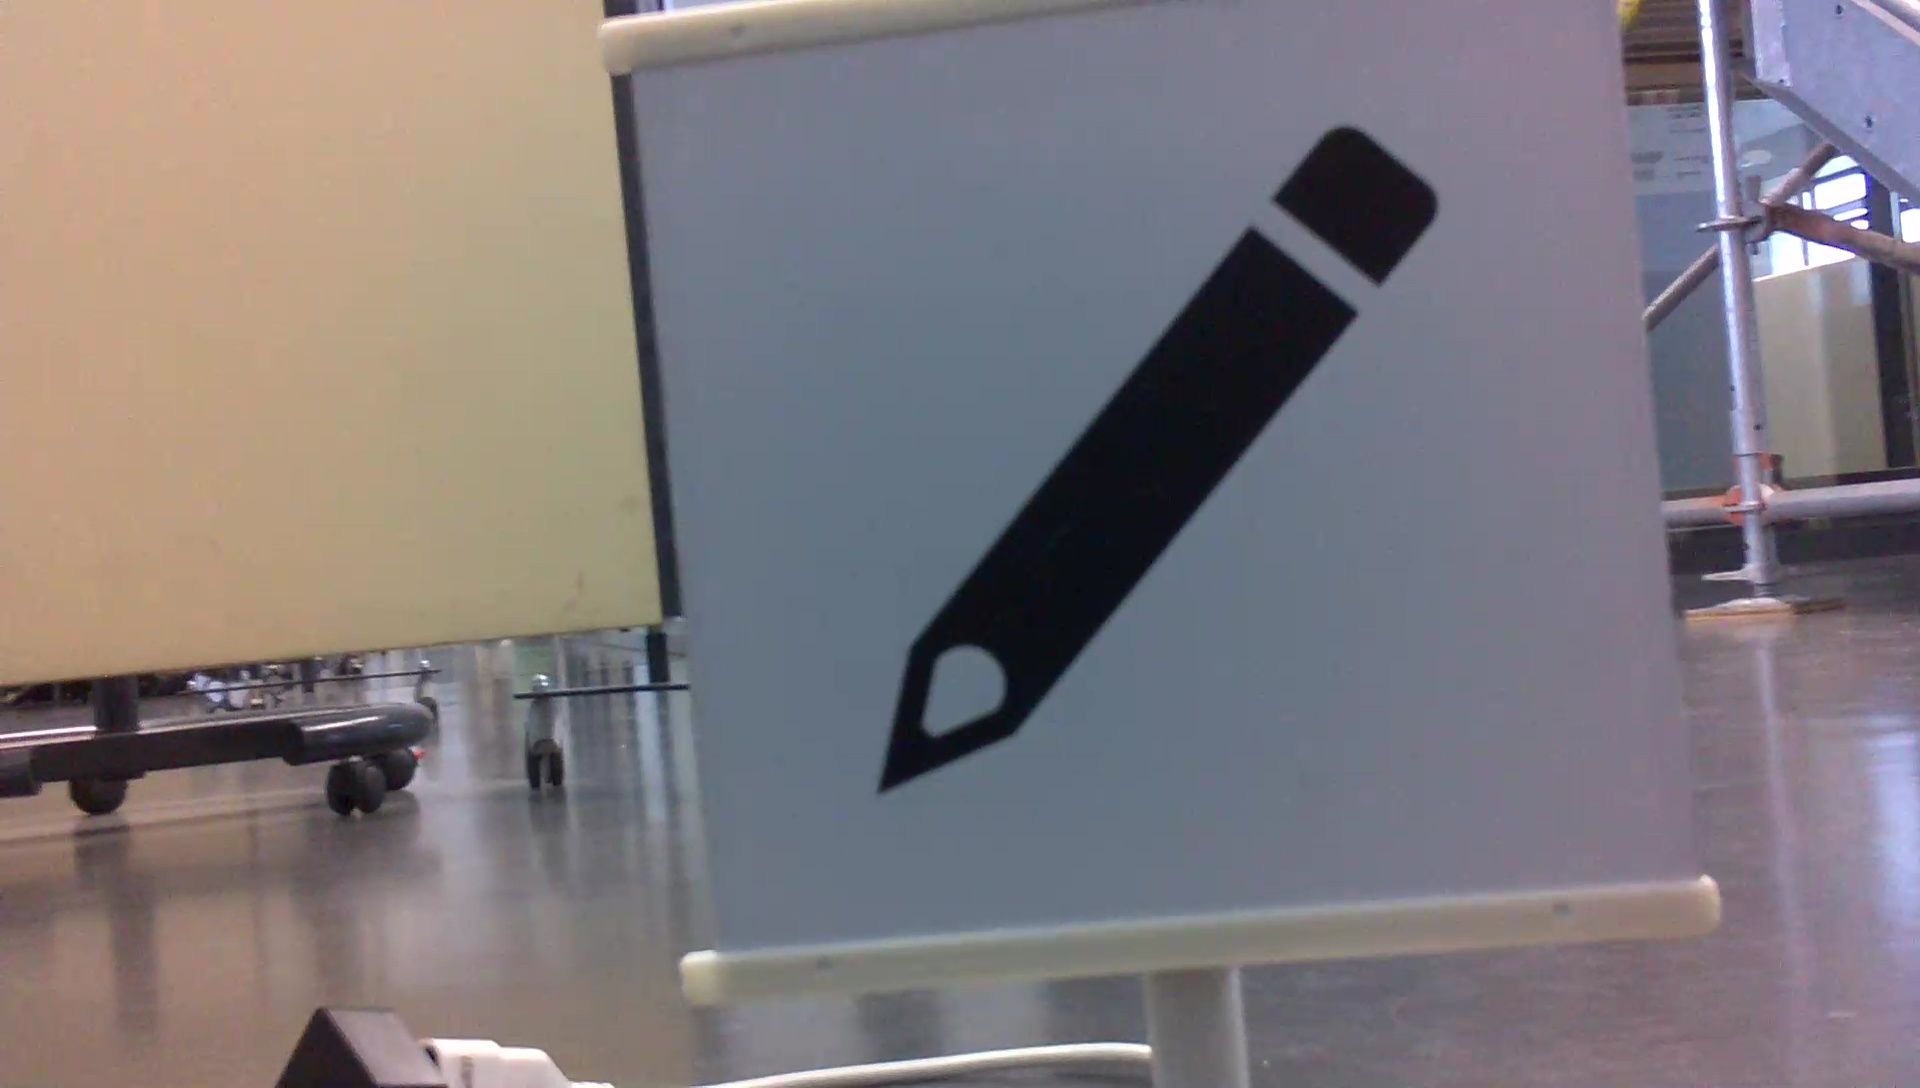pencil: (853, 113, 1458, 816)
